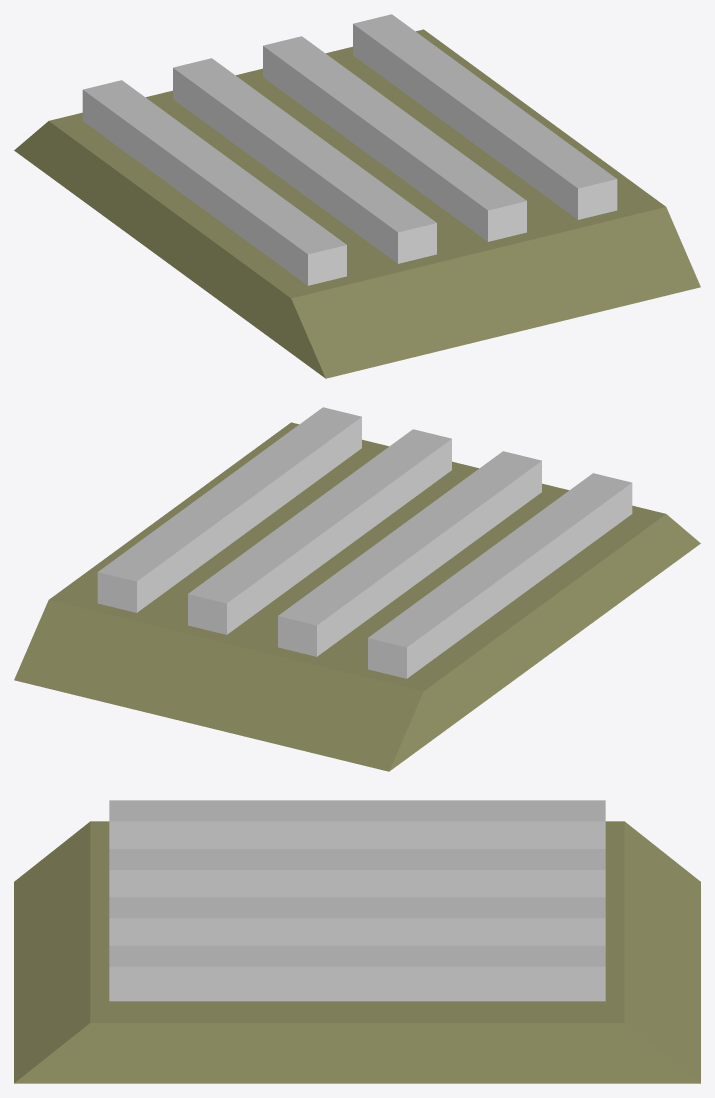
The model's file is SM_Via_Recta2_v3_Obra_LOD0.fbx.
3 views of the same model, one above another, from view 1: azimuth 30°, elevation 25°; view 2: azimuth 150°, elevation 25°; view 3: azimuth 270°, elevation 25° (orthographic). The views are drawn at different scales.
Parts seen in each view (by area): view 1: SM_via_trazado_v8_LOD0; view 2: SM_via_trazado_v8_LOD0; view 3: SM_via_trazado_v8_LOD0.
Boxes of the visible parts, x1=… form: SM_via_trazado_v8_LOD0: x1=14, y1=14, x2=700, y2=378; SM_via_trazado_v8_LOD0: x1=14, y1=407, x2=700, y2=771; SM_via_trazado_v8_LOD0: x1=14, y1=800, x2=700, y2=1083.
Size of the model in its own units: 2.5 by 0.55 by 3.6.
